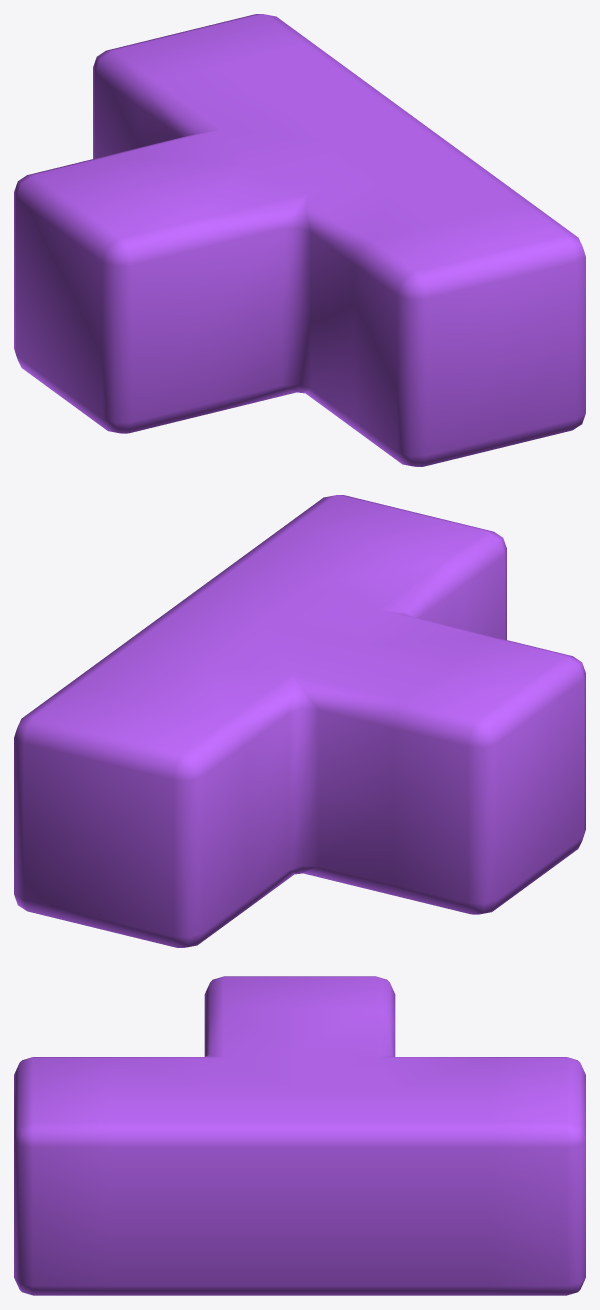
The model's file is tetrisT-glass.obj.
3 views of the same model, one above another, from view 1: azimuth 30°, elevation 25°; view 2: azimuth 150°, elevation 25°; view 3: azimuth 270°, elevation 25° (orthographic). The views are drawn at different scales.
Parts seen in each view (by area): view 1: Cube; view 2: Cube; view 3: Cube.
Boxes of the visible parts, bbox=[...] form: Cube: bbox=[14, 14, 585, 466]; Cube: bbox=[14, 495, 585, 947]; Cube: bbox=[14, 976, 585, 1295].
Bounding box in the file's own units: 0.3 × 0.15 × 0.45.
